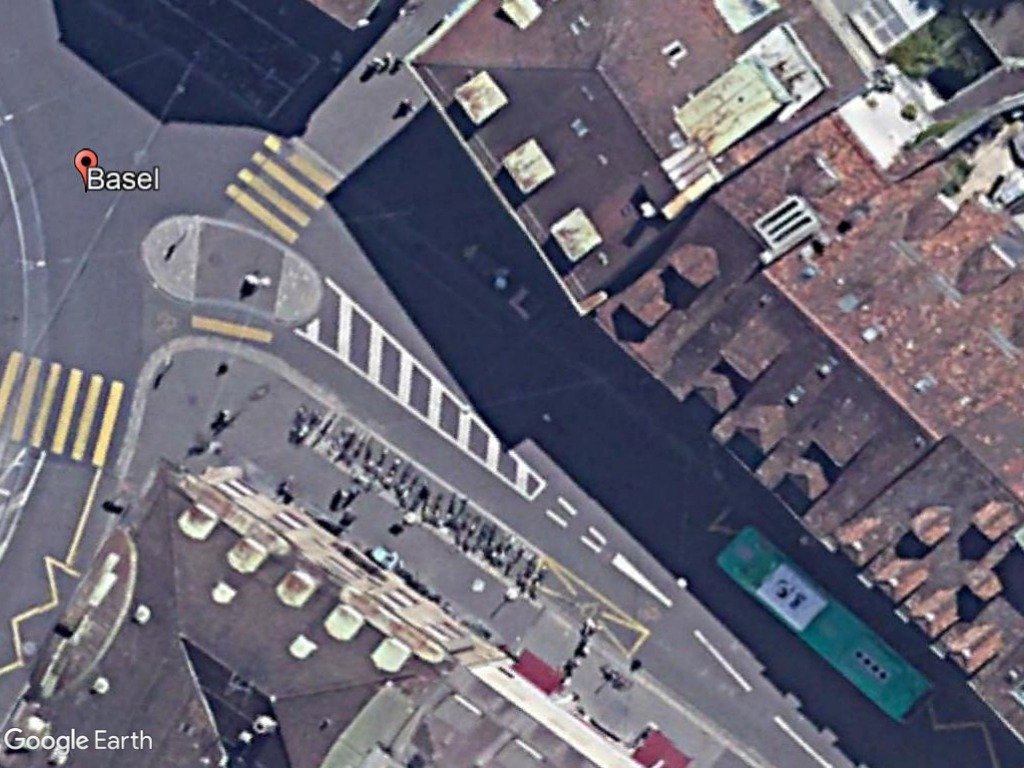bus: (707, 516, 939, 728)
